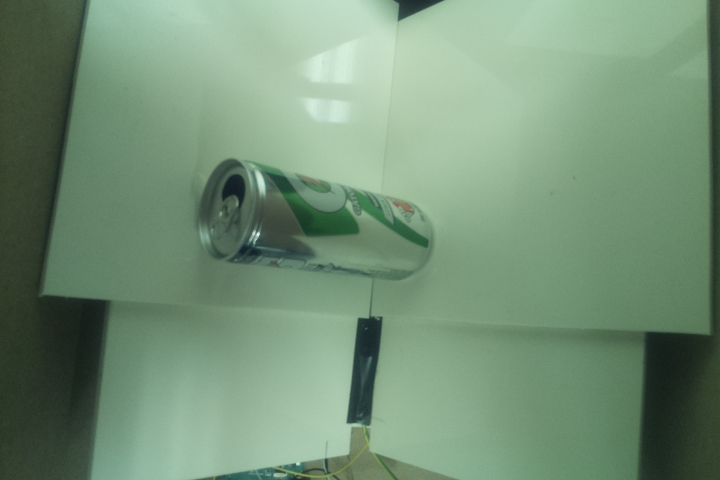can: (194, 156, 437, 285)
